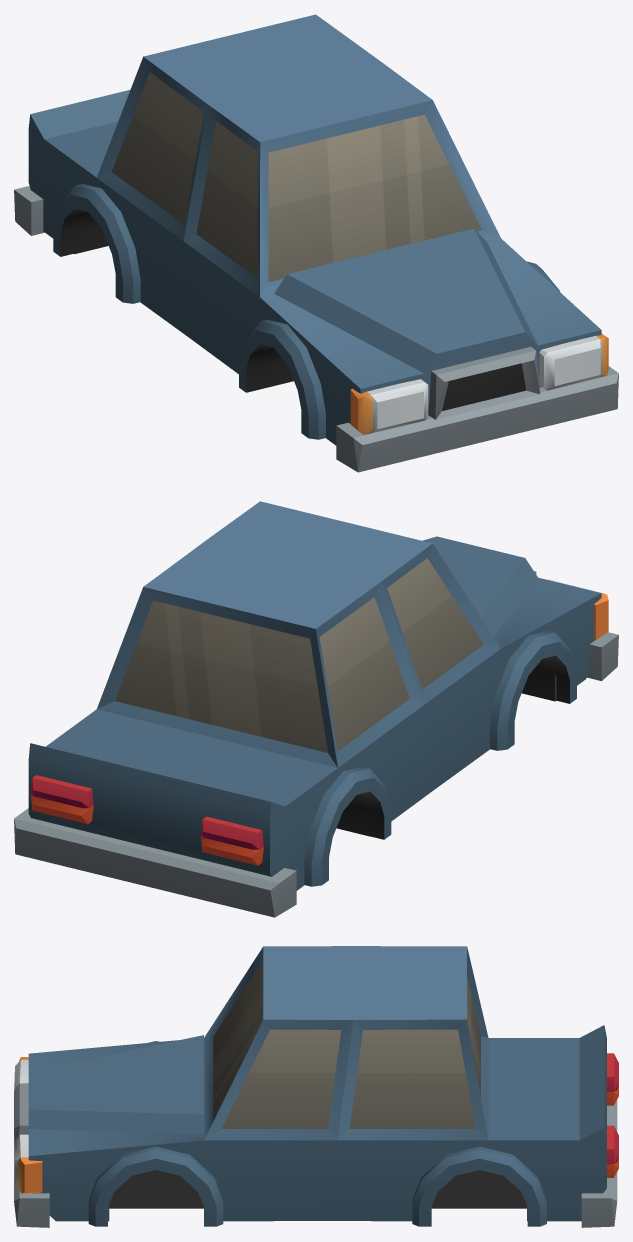
Rendered from car_sedan.obj.
The picture shows the model from 3 angles, top to bottom: view 1: azimuth 30°, elevation 25°; view 2: azimuth 150°, elevation 25°; view 3: azimuth 270°, elevation 25°; orthographic projection. The views are drawn at different scales.
Bounding box in the file's own units: 0.419 × 0.38 × 0.9381.
1 material, 1 textured.
